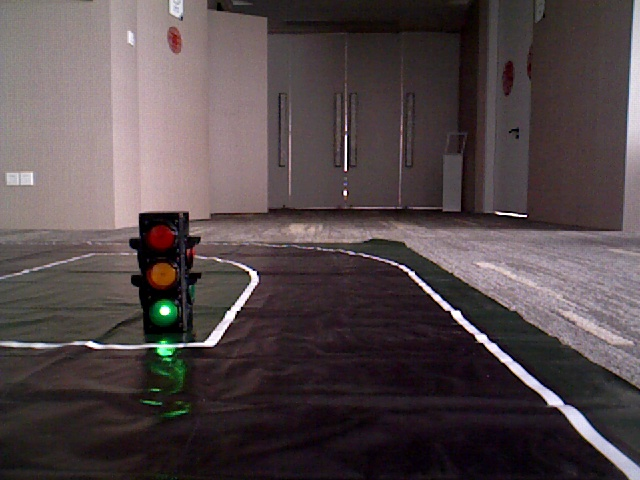green: (140, 222, 186, 337)
